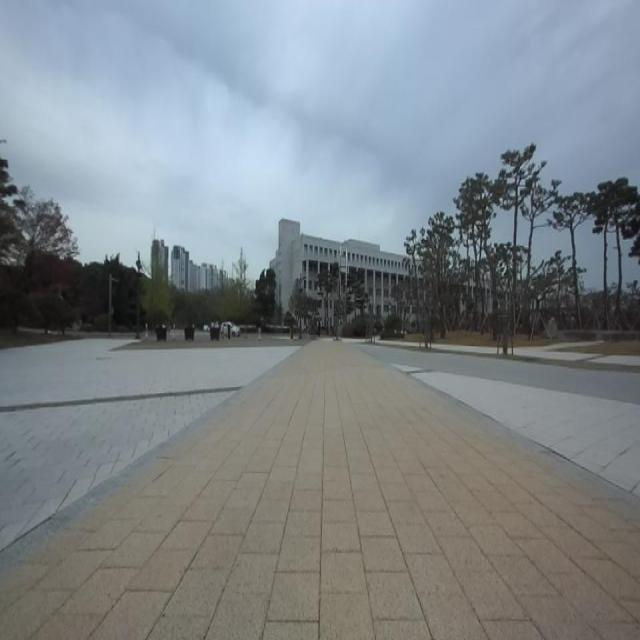sidewalk: (0, 340, 640, 639), (515, 347, 640, 366), (432, 343, 496, 354), (376, 339, 422, 348)
